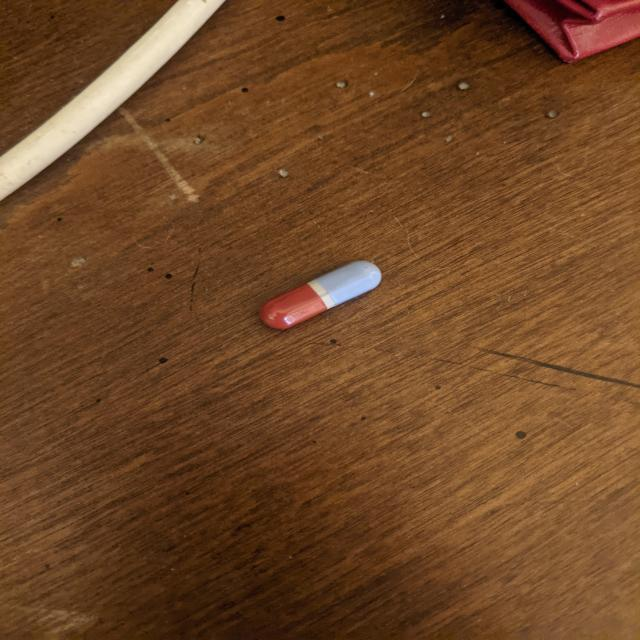non-organic waste: (257, 259, 384, 331)
